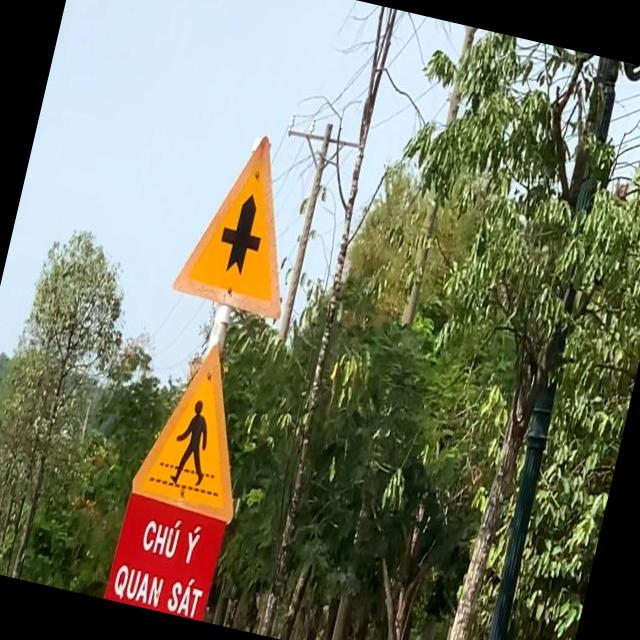W-207a: (172, 122, 318, 323)
W-224: (126, 328, 273, 524)
